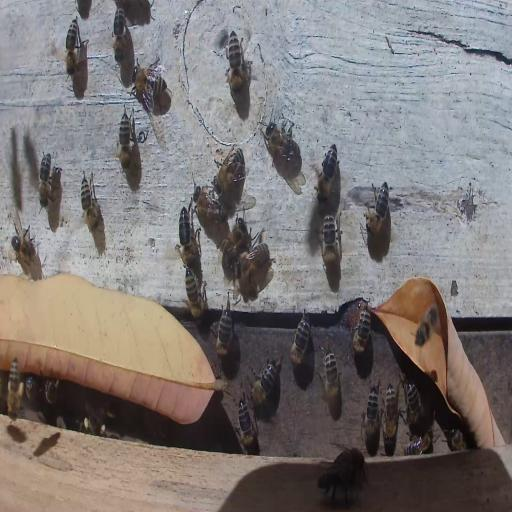bee: (316, 464, 364, 505), (262, 116, 300, 164), (249, 352, 282, 407), (132, 58, 167, 103), (213, 145, 245, 193), (321, 348, 343, 412), (235, 242, 270, 282), (320, 211, 342, 272), (317, 142, 339, 203), (80, 170, 101, 233), (366, 181, 390, 236), (222, 220, 248, 270), (178, 206, 197, 269), (235, 397, 256, 454), (332, 441, 368, 474), (194, 184, 222, 226), (352, 306, 375, 357), (226, 30, 244, 94), (290, 315, 311, 368), (184, 270, 206, 320), (7, 358, 24, 422), (362, 386, 380, 445), (10, 230, 38, 267), (383, 381, 398, 449), (413, 307, 439, 346), (64, 17, 82, 73), (118, 107, 132, 172), (402, 381, 421, 426), (38, 151, 52, 207), (112, 4, 126, 59), (218, 303, 232, 354), (404, 432, 433, 456), (444, 426, 467, 452), (84, 411, 106, 438), (44, 376, 58, 406), (23, 374, 36, 399)
